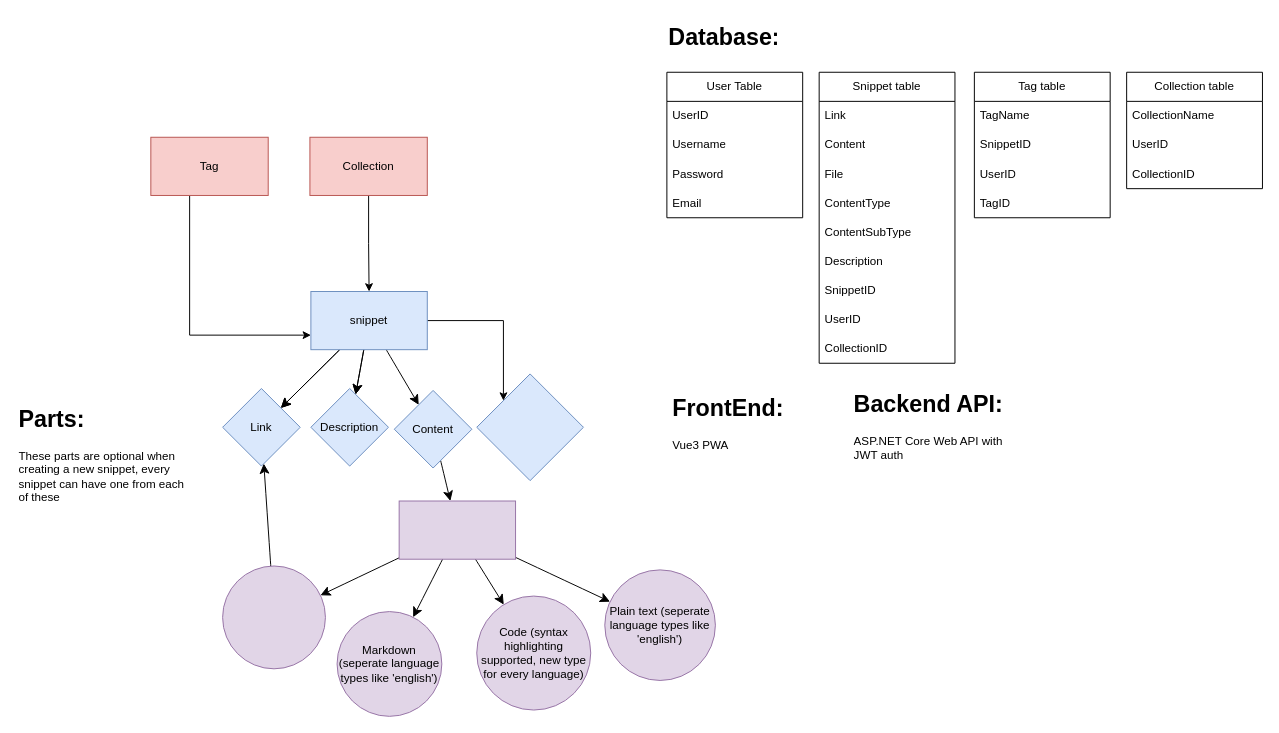
Some shapes in this 1279 by 733 pixel diagram are drawn without their labels. The centre of each missing label's shape, as x and y in pixels:
"Article (Pull article down by link and convert to text)" belongs at point (273, 617).
"File attachment (if image it will display it)" belongs at point (529, 427).
"Types" belongs at point (457, 529).
